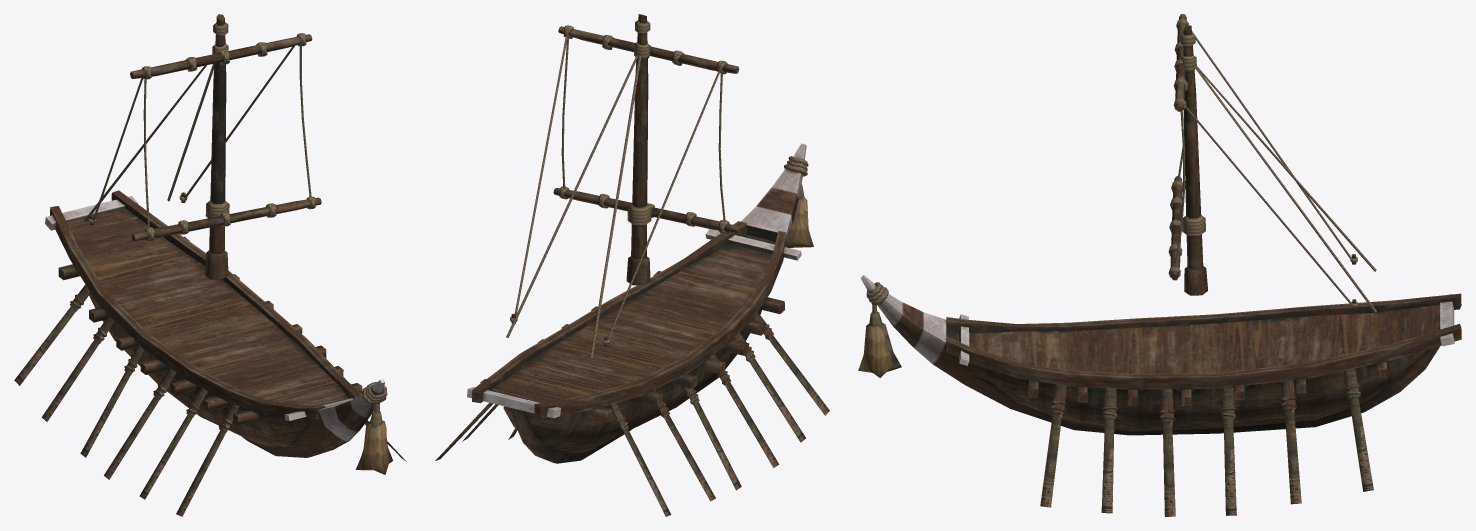
The model's file is body-base.glb.
The picture shows the model from 3 angles, left to right: view 1: azimuth 30°, elevation 25°; view 2: azimuth 150°, elevation 25°; view 3: azimuth 270°, elevation 25°; orthographic projection.
Size of the model in its own units: 3.6 by 6.01 by 7.53.
Materials: 2 (2 with a texture image).
